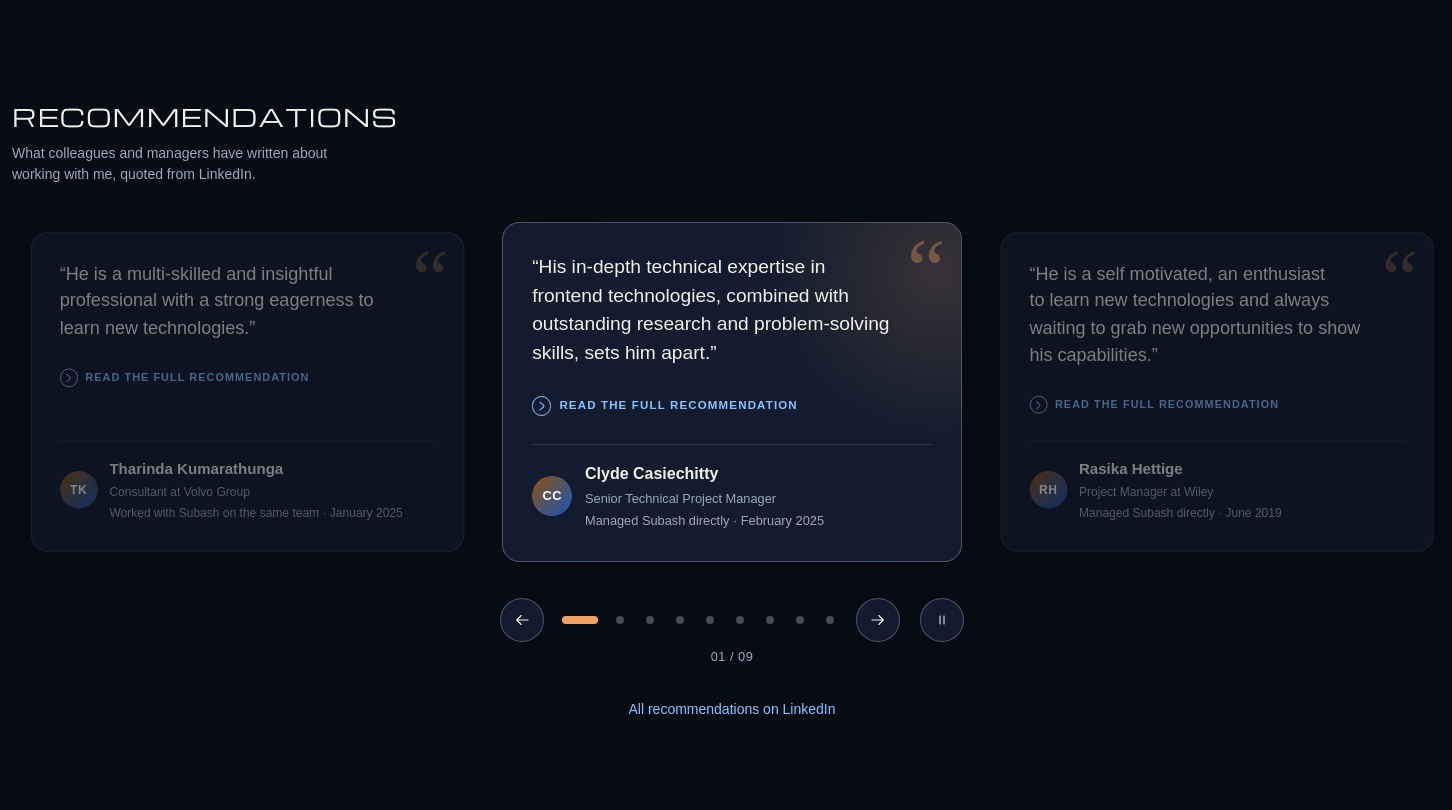
Test: Recommendations › keeps the centre card in focus and its neighbours either side
Click the 3rd element with class "rec-slide": [1217, 392] box 1000,232 -> 1433,552
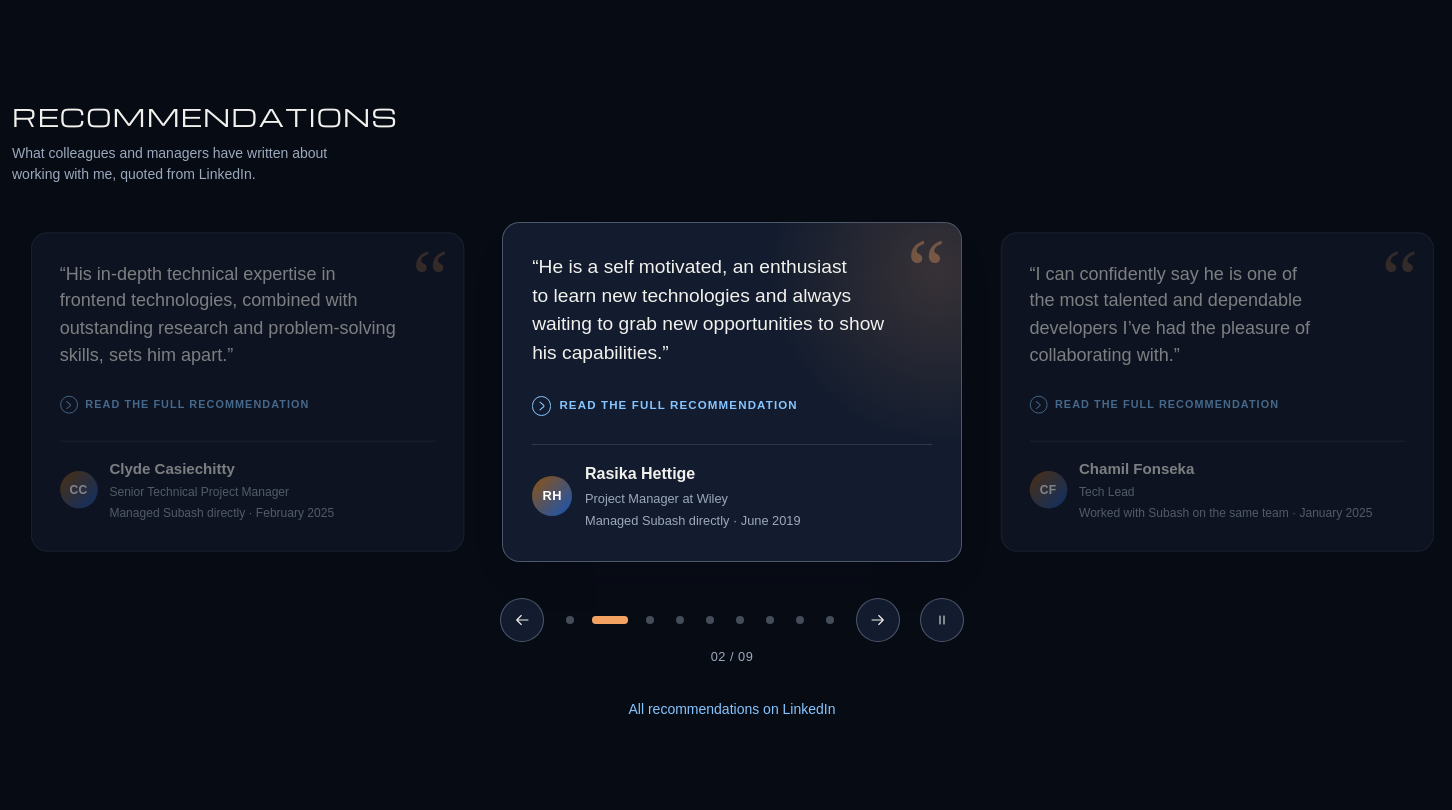
expect the element with class "rec-slide" has attribute data-active="true": met, box 502,222 -> 962,562
expect the button named "Recommendation 2: Rasika Hettige" is marked as current: met, box 586,598 -> 634,642
